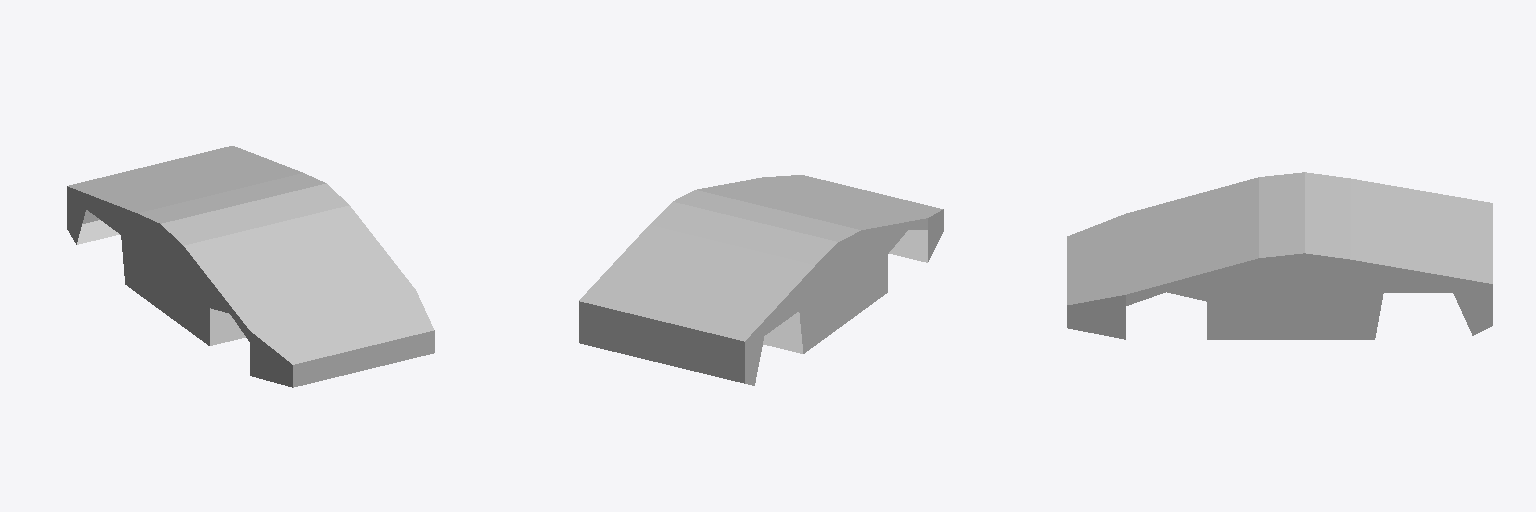
Rendered from car01_collider.obj.
3 views of the same model, side by side, from view 1: azimuth 30°, elevation 25°; view 2: azimuth 150°, elevation 25°; view 3: azimuth 270°, elevation 25° (orthographic).
Visible parts, largest first — view 1: collider_Cube.001; view 2: collider_Cube.001; view 3: collider_Cube.001.
Part boxes in pixels (left/top/right/bottom): collider_Cube.001: left=67, top=146, right=434, bottom=387; collider_Cube.001: left=579, top=175, right=943, bottom=385; collider_Cube.001: left=1067, top=172, right=1492, bottom=339.
Size of the model in its own units: 1.69 by 0.8382 by 3.73.